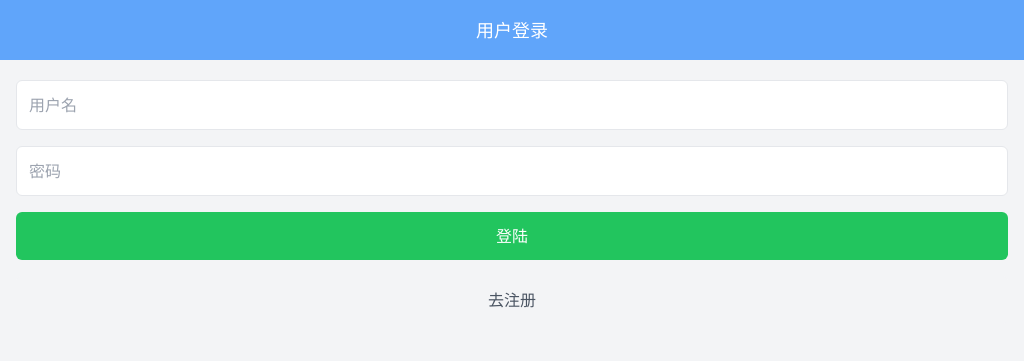
it: Login.vue › 应该处理无效的响应数据
Type "testuser" into the field with placeholder "用户名" at x=512, y=105, box [16,80,1008,130]
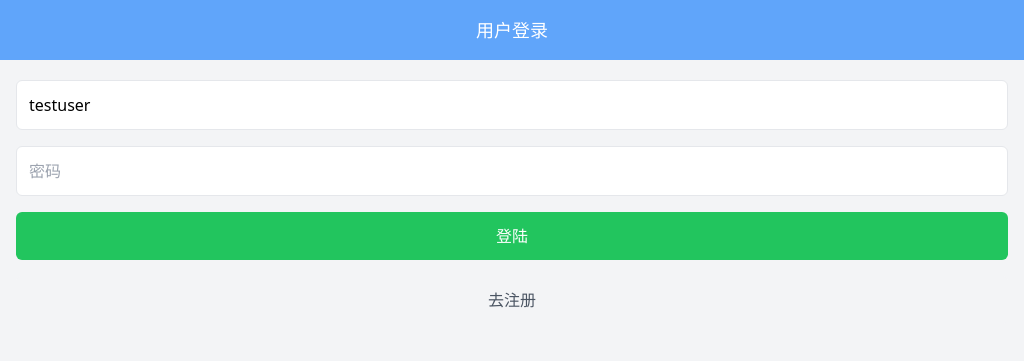
Type "testpass" into the password field with placeholder "密码" at x=512, y=171, box [16,146,1008,196]
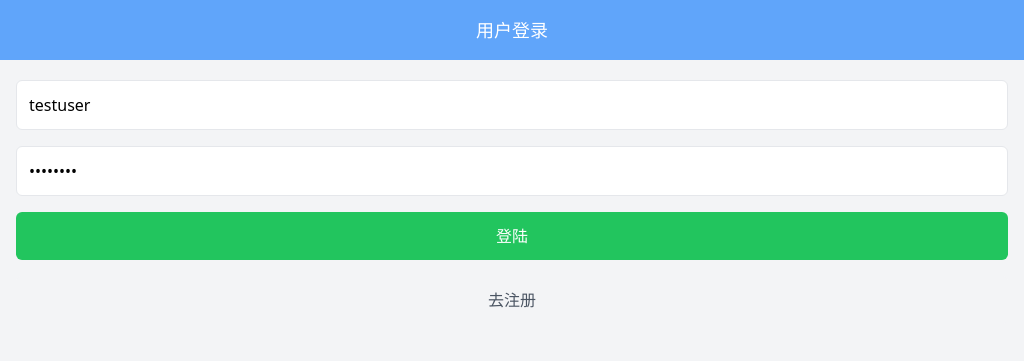
Click the button "登陆" at x=512, y=236, box [16,212,1008,260]
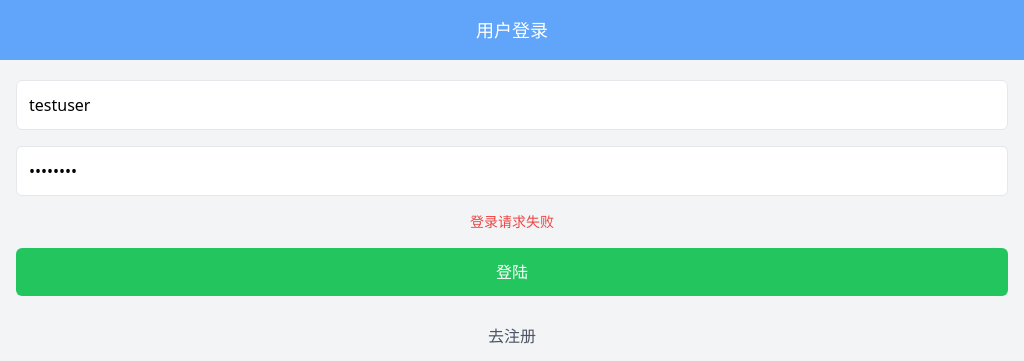
Expected: the text "登录请求失败" is shown, [470,212,554,231]
